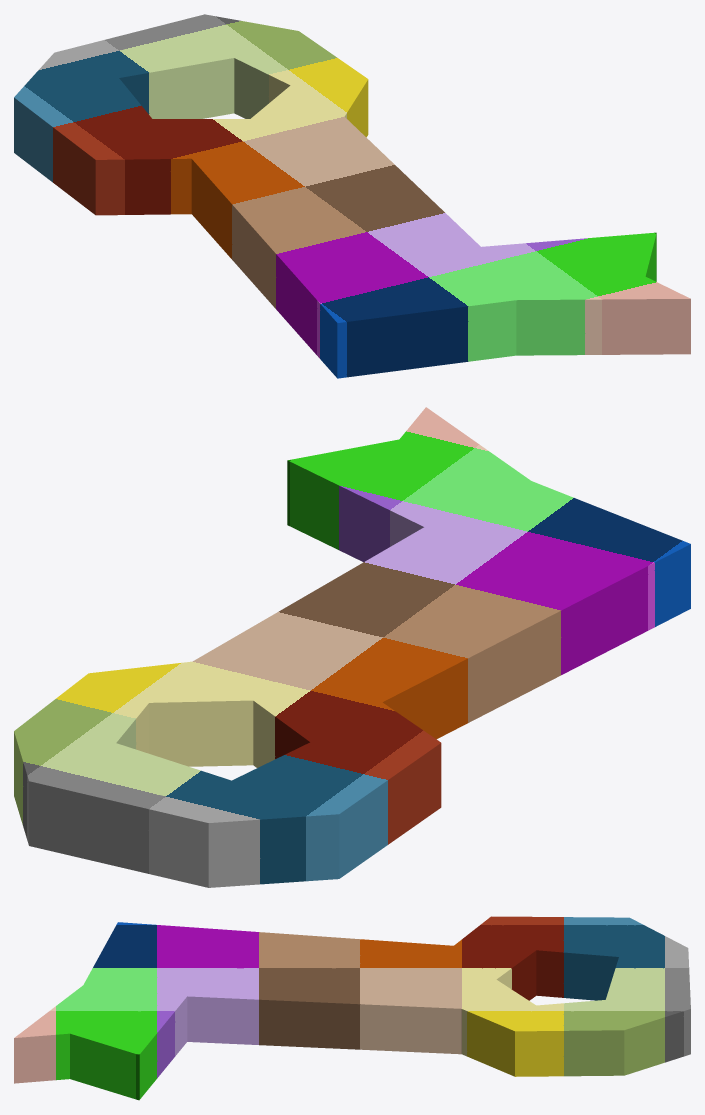
The model's file is key.glb.
The picture shows the model from 3 angles, top to bottom: view 1: azimuth 30°, elevation 25°; view 2: azimuth 150°, elevation 25°; view 3: azimuth 270°, elevation 25°; orthographic projection. The views are drawn at different scales.
Visible parts, largest first — view 1: key-col; view 2: key-col; view 3: key-col.
Part boxes in pixels (left/top/right/bottom): key-col: left=14, top=14, right=690, bottom=378; key-col: left=14, top=407, right=690, bottom=887; key-col: left=14, top=916, right=690, bottom=1100.
Size of the model in its own units: 0.8072 by 0.1235 by 1.67.
1 material, 1 textured.
